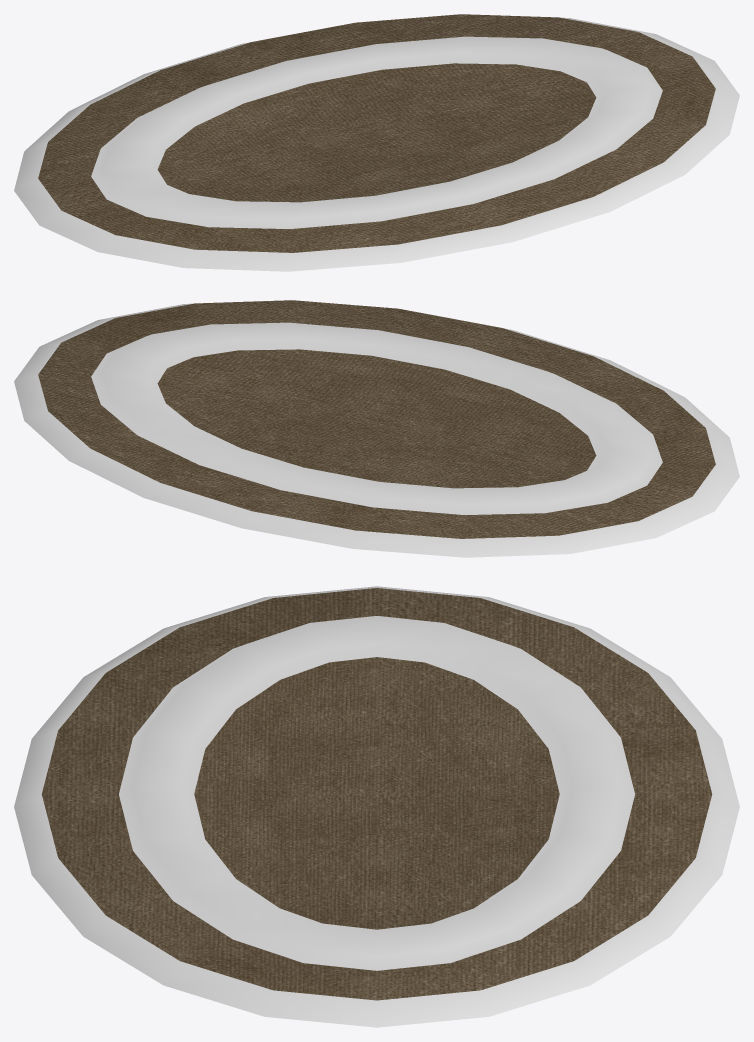
Rendered from carpet_008.fbx.
The picture shows the model from 3 angles, top to bottom: view 1: azimuth 30°, elevation 25°; view 2: azimuth 150°, elevation 25°; view 3: azimuth 270°, elevation 25°; orthographic projection. The views are drawn at different scales.
Parts seen in each view (by area): view 1: carpet_008; view 2: carpet_008; view 3: carpet_008.
Boxes of the visible parts, x1,y1,x2,y2 form: carpet_008: (14, 14, 739, 271); carpet_008: (14, 300, 739, 557); carpet_008: (14, 586, 739, 1027).
Size of the model in its own units: 206 by 143 by 4.45.
